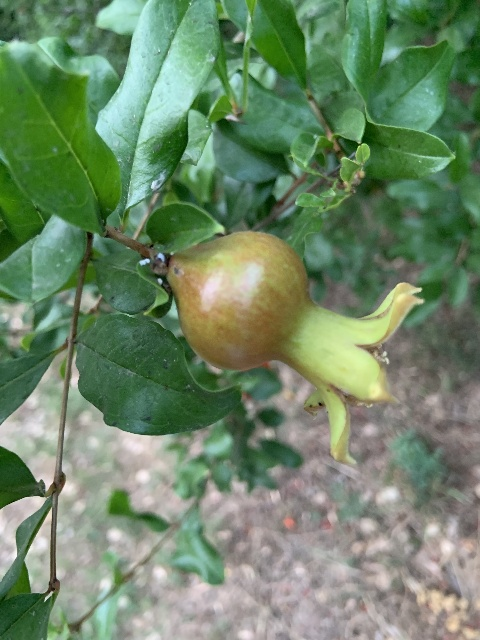early-fruit: (167, 230, 423, 465)
